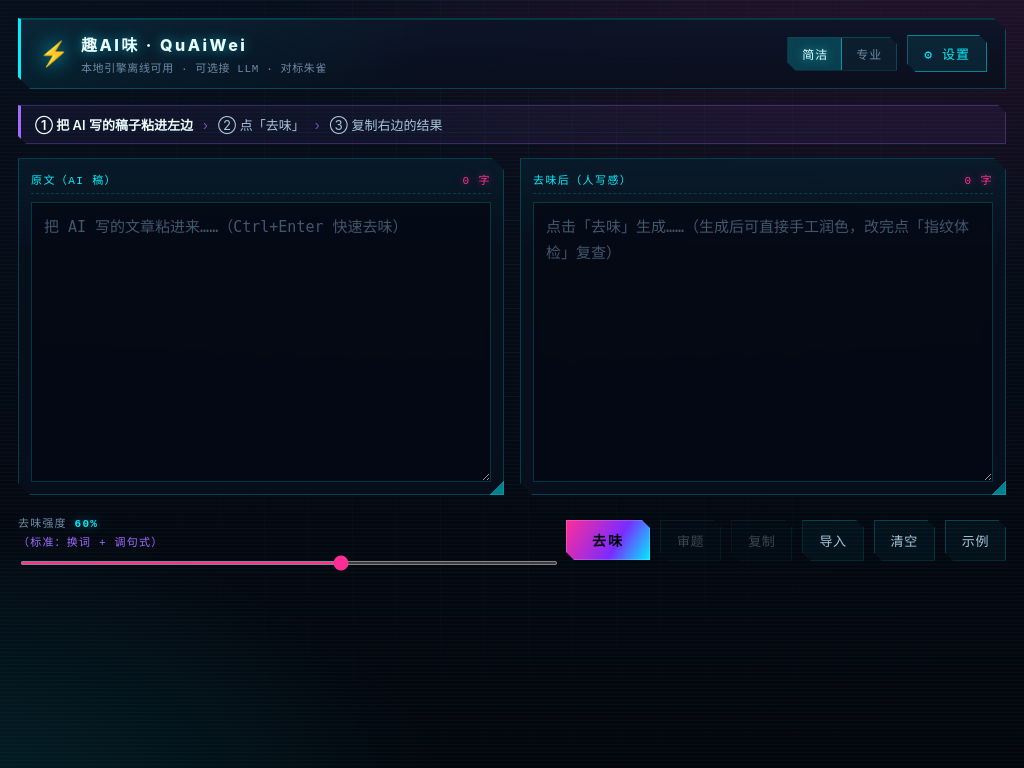
Test case: 简洁模式：去味闭环与结果条 › 去味后出现结果条：分数、人话结论、复制与导出
Type "值得注意的是，随着人工智能技术的快速发展，AI 写作工具应运而生。综上所述，数字化办公不仅极大地提升了工作效率，而且有效地降低了运营成本。然而，技术的变革也带来了一系列值得关注的挑战。" into the text box with placeholder "把 AI 写的文章粘进来……（Ctrl+Enter 快速去味）".
click(261, 342); type("值得注意的是，随着人工智能技术的快速发展，AI 写作工具应运而生。综上所述，数字化办公不仅极大地提升了工作效率，而且有效地降低了运营成本。然而，技术的变革也带来了一系列值得关注的挑战。")  # box [31,202,491,482]
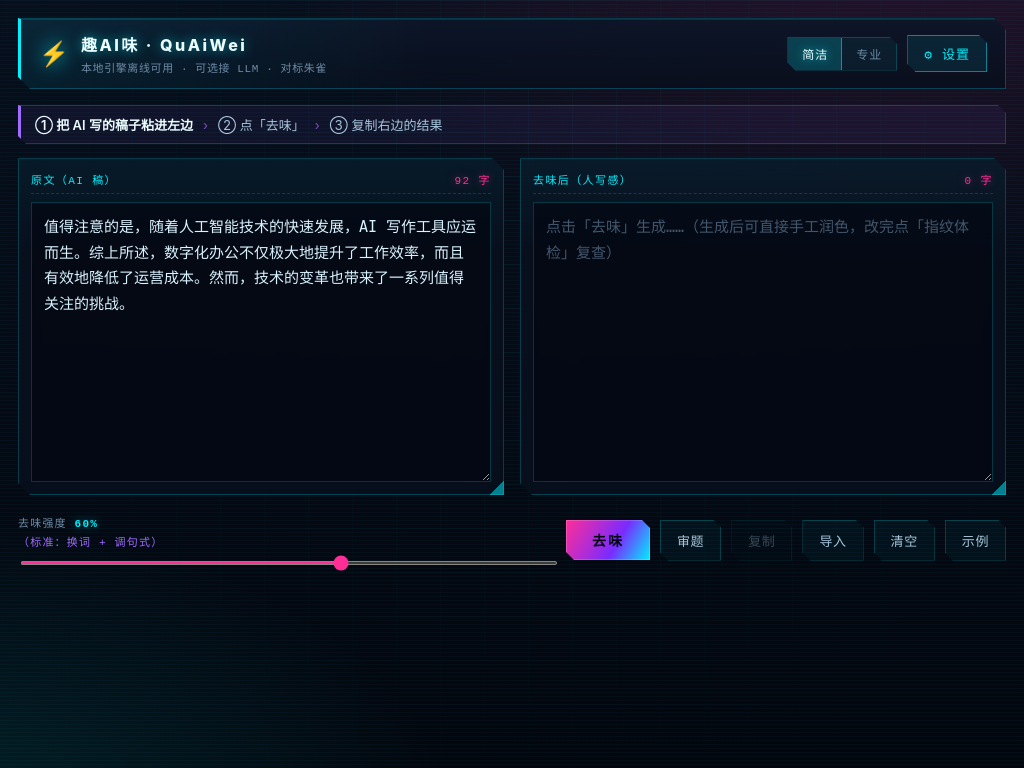
Click the button "去味".
click(608, 540)  # box [566,520,650,560]
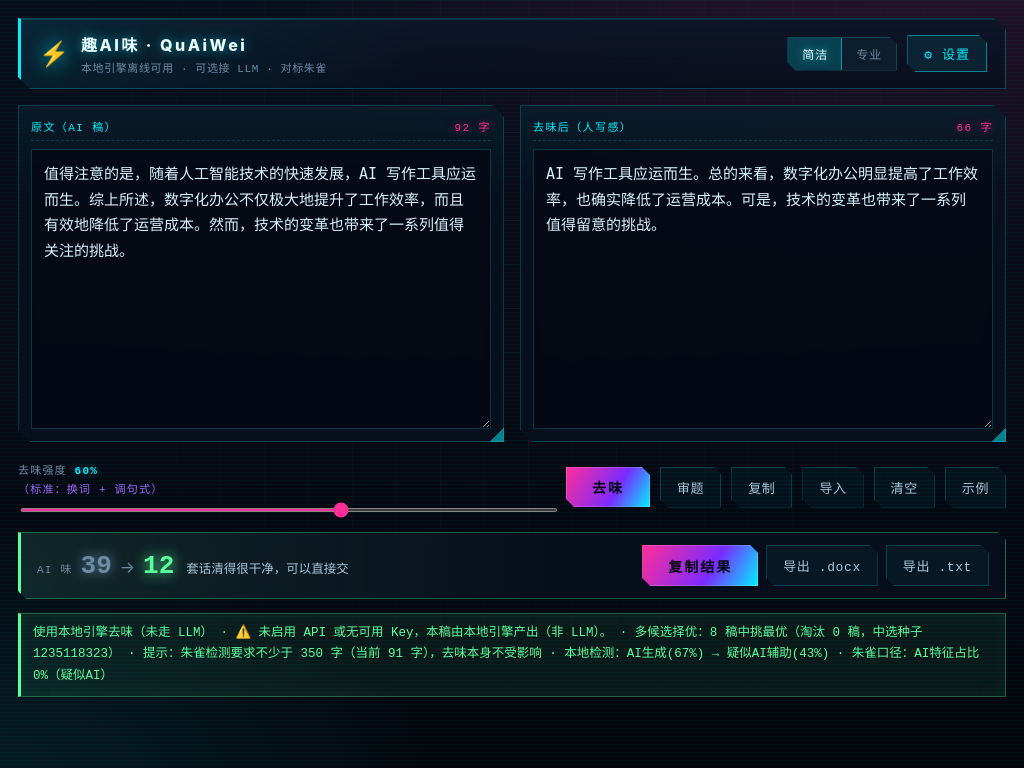
Expected: the element with class "resultbar" is shown, [18,532,1006,599]
Expected: the element with class "result-score" shows "AI 味", [37,564,73,576]
Expected: the element with class "result-score" shows "39", [81,550,112,580]
